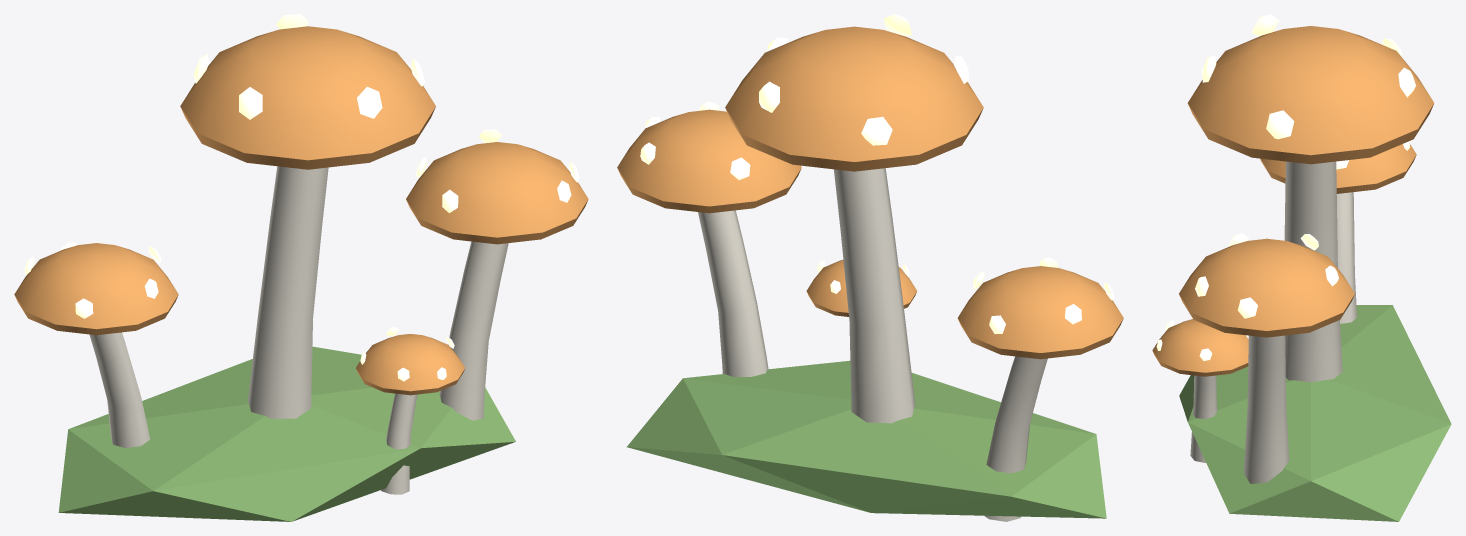
The model's file is mushroom_small.glb.
3 views of the same model, side by side, from view 1: azimuth 30°, elevation 25°; view 2: azimuth 150°, elevation 25°; view 3: azimuth 270°, elevation 25° (orthographic). The views are drawn at different scales.
Parts seen in each view (by area): view 1: mushroom_small; view 2: mushroom_small; view 3: mushroom_small.
Part boxes in pixels (bbox=[...]): mushroom_small: bbox=[14, 14, 588, 521]; mushroom_small: bbox=[617, 14, 1123, 521]; mushroom_small: bbox=[1152, 14, 1451, 521].
Bounding box in the file's own units: 0.65 × 0.5159 × 0.3395.
